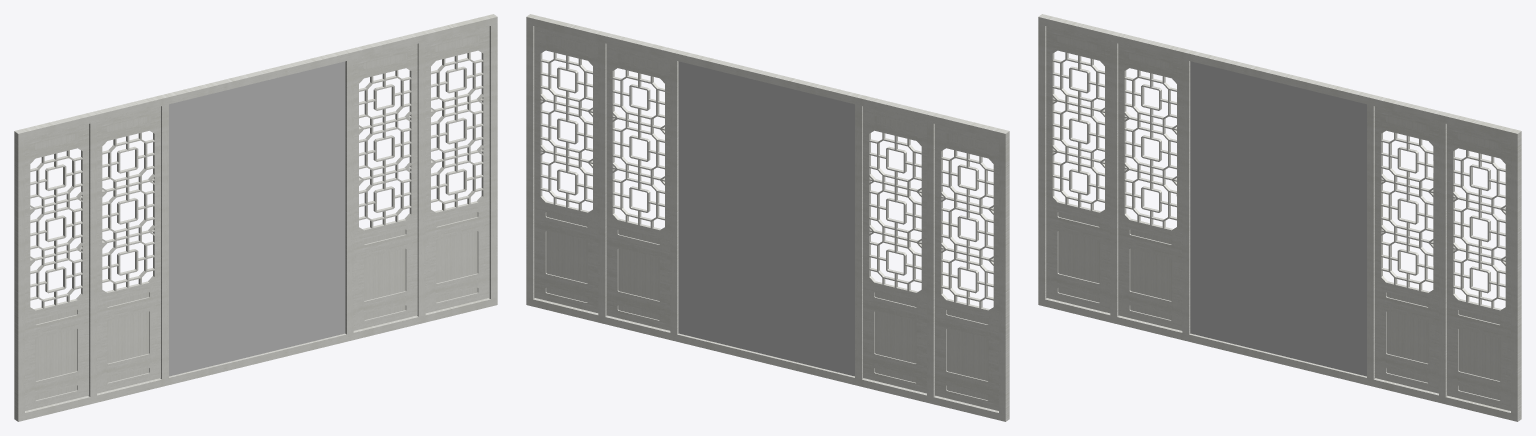
File: Partition wall.FBX
3 renders of one model, left to right at view 1: azimuth 30°, elevation 25°; view 2: azimuth 150°, elevation 25°; view 3: azimuth 330°, elevation 25°, orthographic.
Parts seen in each view (by area): view 1: partition wall; view 2: partition wall; view 3: partition wall.
Part boxes in pixels (x1,y1,x2,y2): partition wall: (14,14,497,421); partition wall: (526,14,1009,421); partition wall: (1038,14,1521,421).
Size of the model in its own units: 465 by 267 by 6.69.
